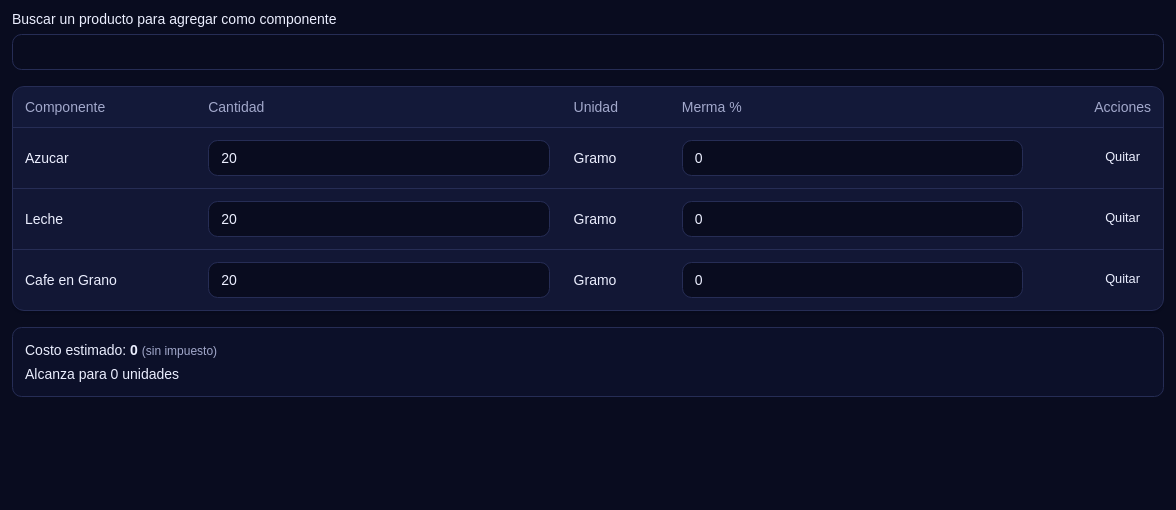
Test: CompositionTab — el error se pinta sobre la fila › un error SIN campos (409 de negocio) se sigue mostrando arriba
This screenshot has width=1176, height=510.
Type "5" into the number field named "Cantidad de «Cafe en Grano»".
click(379, 280); type("5")  # box [208,262,550,298]
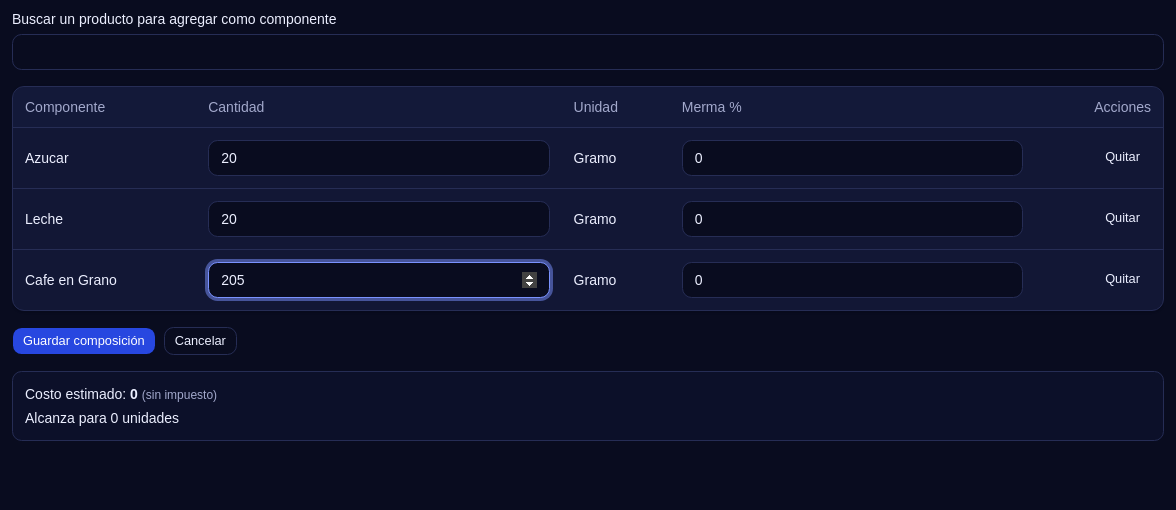
Click the button "Guardar composición".
click(84, 340)  # box [12,326,156,354]
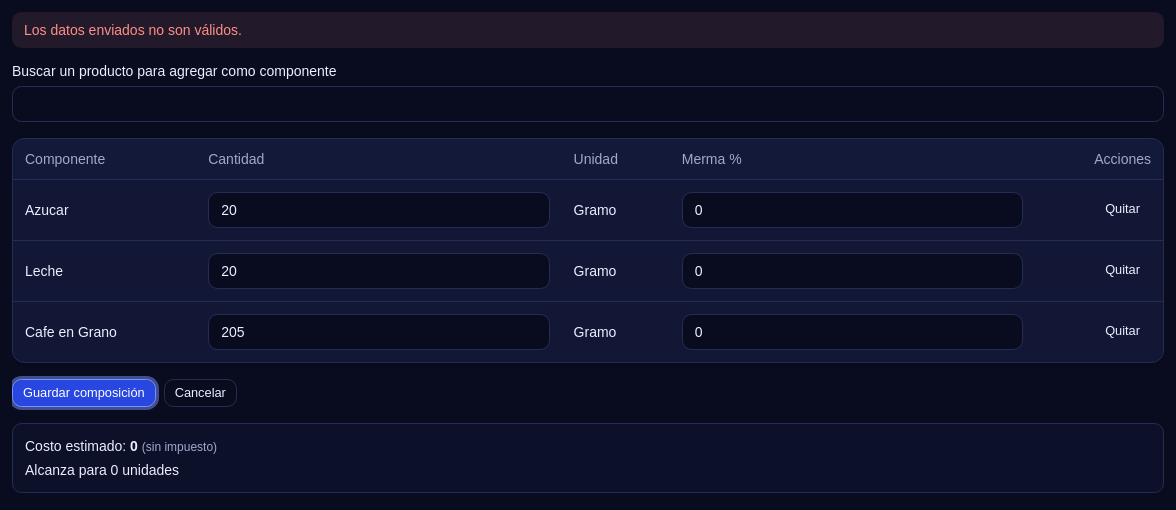
Expected: the message "Los datos enviados no son válidos." is shown, [12,12,1164,48]
